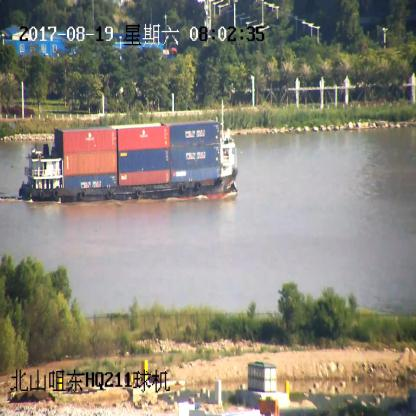Container Ship: (21, 102, 238, 203)
